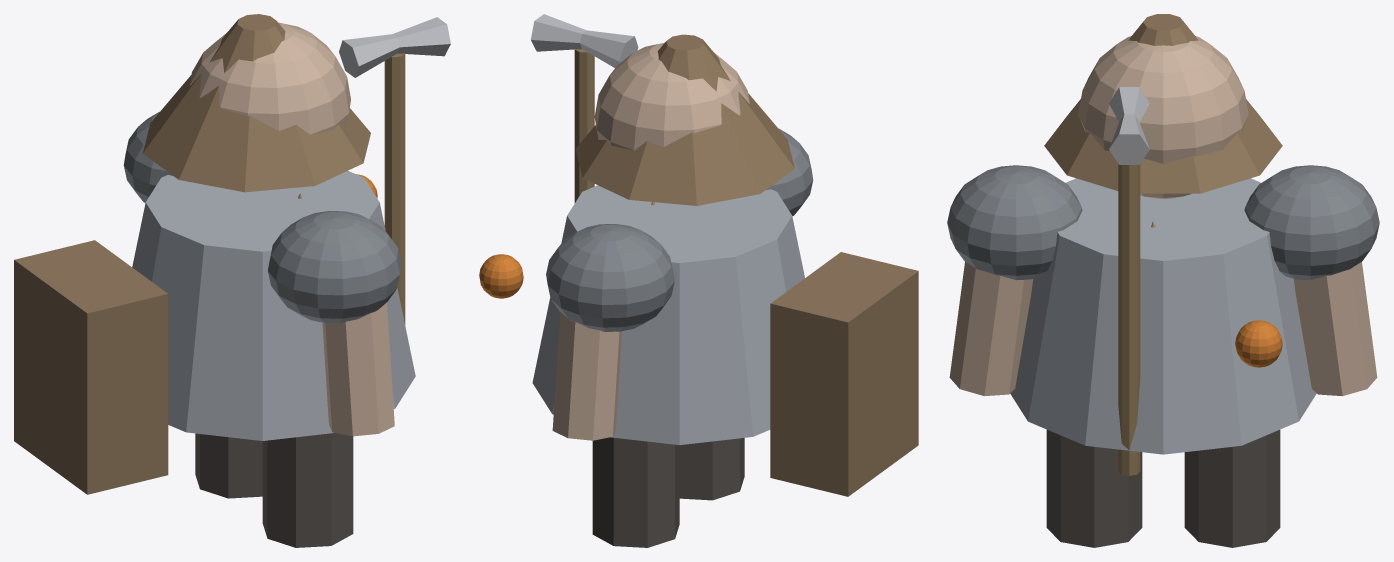
Rendered from hero_brakkar_3.glb.
3 views of the same model, side by side, from view 1: azimuth 30°, elevation 25°; view 2: azimuth 150°, elevation 25°; view 3: azimuth 270°, elevation 25° (orthographic). The views are drawn at different scales.
Visible parts, largest first — view 1: figurka; view 2: figurka; view 3: figurka.
Part boxes in pixels (<box>): figurka: <box>14,14,450,547</box>; figurka: <box>479,14,918,547</box>; figurka: <box>947,14,1379,547</box>.
Size of the model in its own units: 0.649 by 0.804 by 0.6345.
